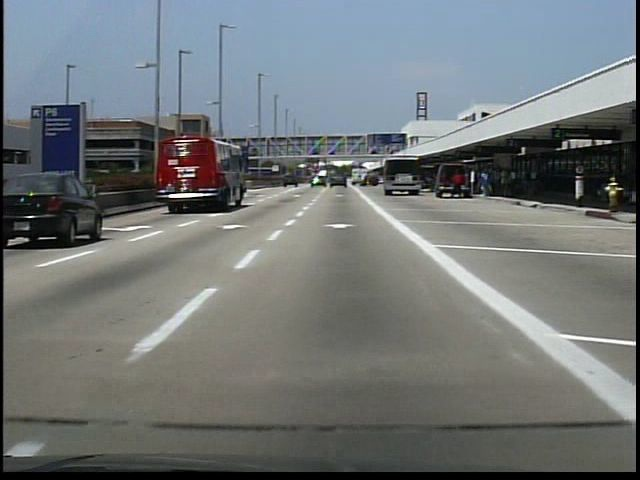person: (451, 168, 466, 204)
